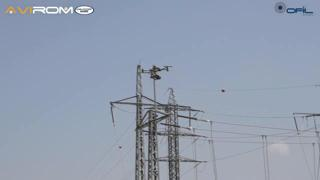UAV: (142, 65, 173, 73)
